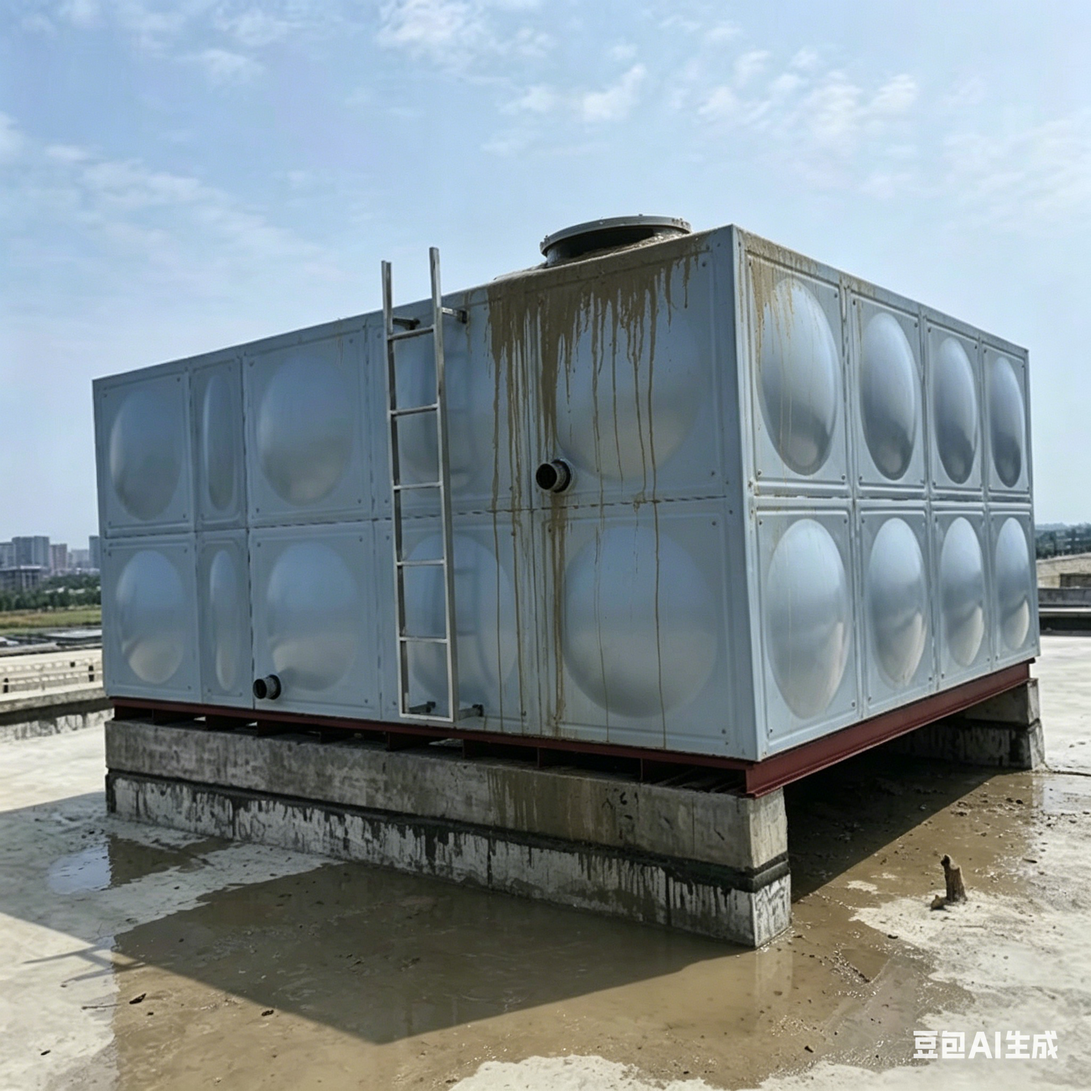Leakage: (132, 929, 943, 1091), (473, 217, 678, 598), (792, 786, 1091, 904), (251, 868, 660, 927), (46, 828, 182, 894)
